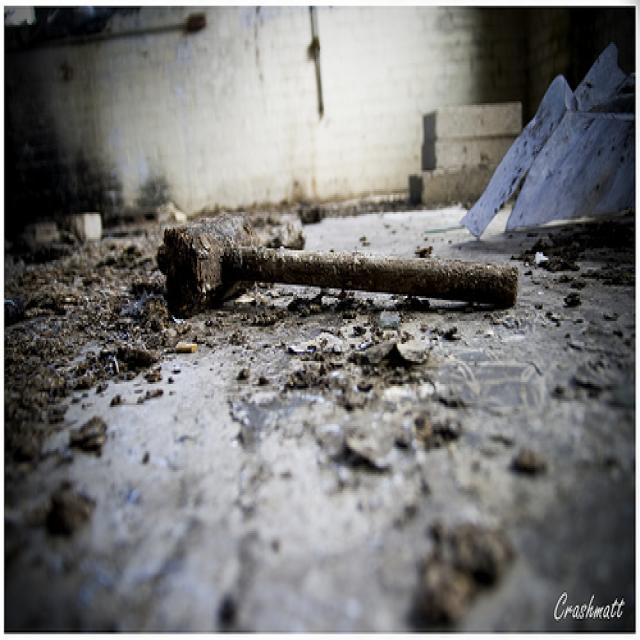hammer: (149, 200, 533, 354)
